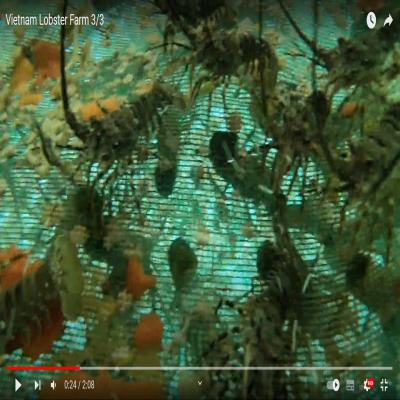lobster: (66, 86, 174, 202), (335, 109, 400, 220), (269, 97, 327, 189), (321, 23, 396, 88), (194, 32, 269, 88)
